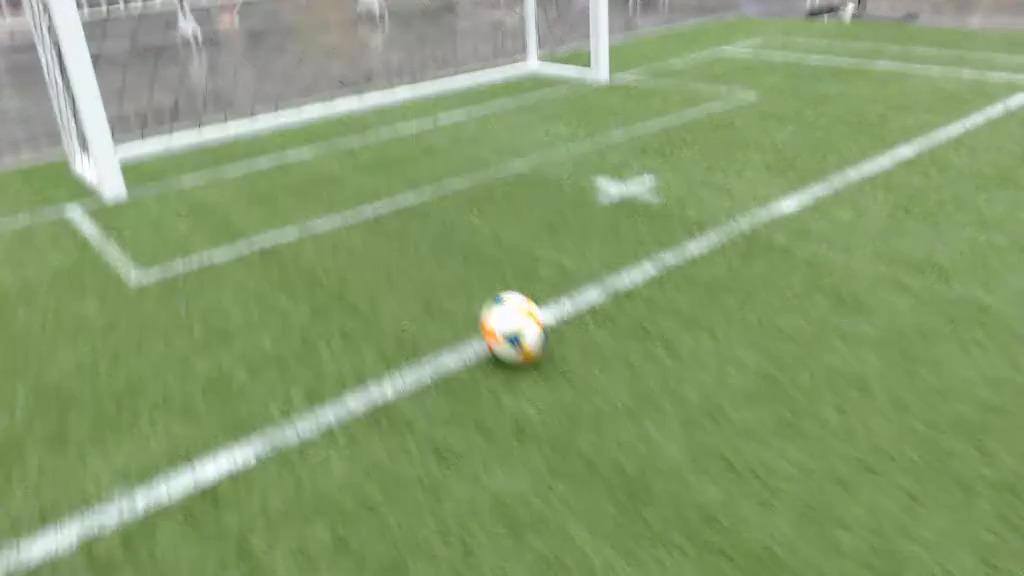ball: (482, 290, 546, 366)
